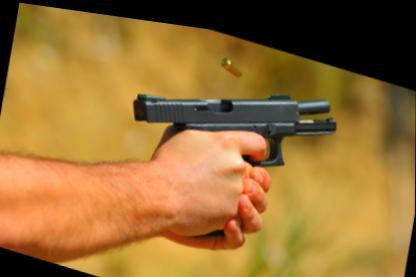pistol: (114, 32, 344, 266)
